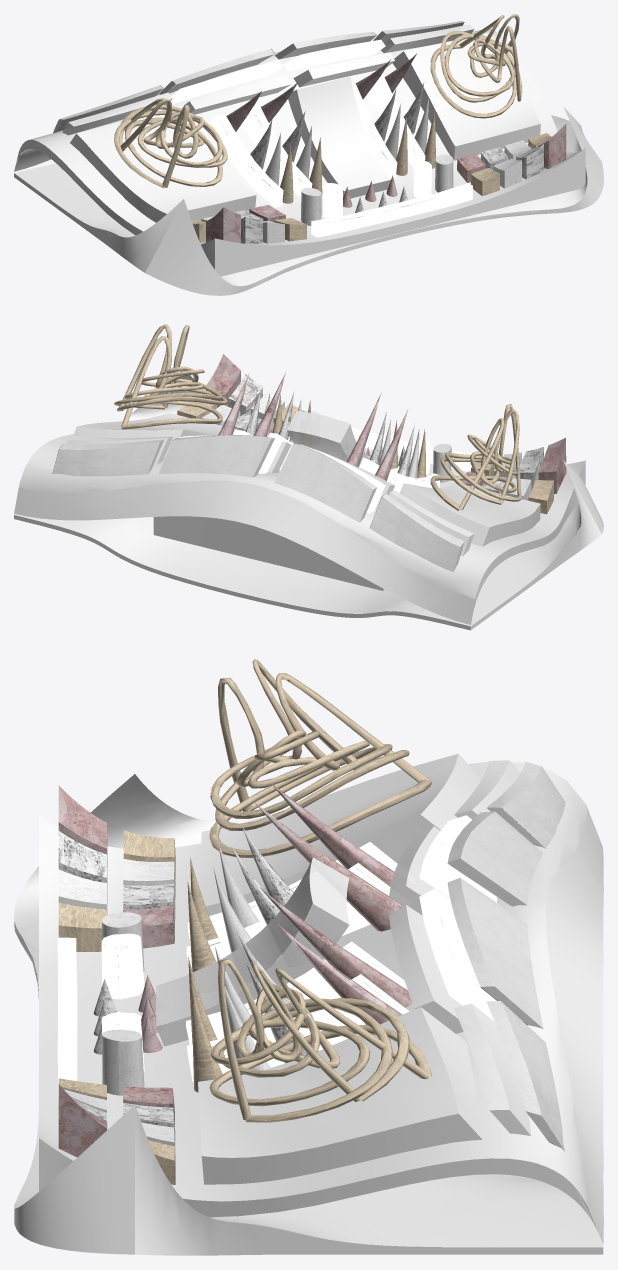
Rendered from dj2-WHT-v45.glb.
3 views of the same model, one above another, from view 1: azimuth 30°, elevation 25°; view 2: azimuth 150°, elevation 25°; view 3: azimuth 270°, elevation 25° (orthographic). The views are drawn at different scales.
Visible parts, largest first — view 1: DJSET_2-REDUCED, base2, slider, donen dalga, ekran2, tus2, tsu4; view 2: DJSET_2-REDUCED, base2, ekran2, donen dalga, tus2, slider, tsu4; view 3: DJSET_2-REDUCED, base2, donen dalga, ekran2, slider, tsu4, tus2.
Part boxes in pixels (x1,y1,x2,y2): DJSET_2-REDUCED: (14,24,585,276); base2: (14,33,603,295); slider: (171,39,472,237); donen dalga: (114,14,522,188); ekran2: (53,21,464,132); tus2: (234,82,543,244); tsu4: (191,109,551,242); DJSET_2-REDUCED: (14,354,585,624); base2: (14,370,603,630); ekran2: (52,435,464,572); donen dalga: (114,324,522,510); tus2: (228,374,543,493); slider: (180,417,471,513); tsu4: (177,394,553,514); DJSET_2-REDUCED: (39,760,603,1243); base2: (14,754,603,1255); donen dalga: (209,659,431,1122); ekran2: (447,761,565,1150); slider: (57,815,497,1097); tsu4: (58,830,222,1184); tus2: (58,826,318,1144).
Size of the model in its own units: 1.2 by 0.4006 by 0.7509.
11 materials, 7 textured.
